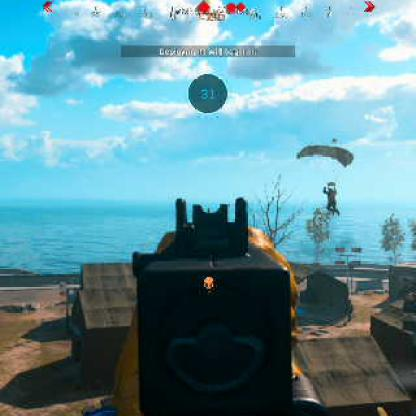enemy: (324, 184, 340, 214)
